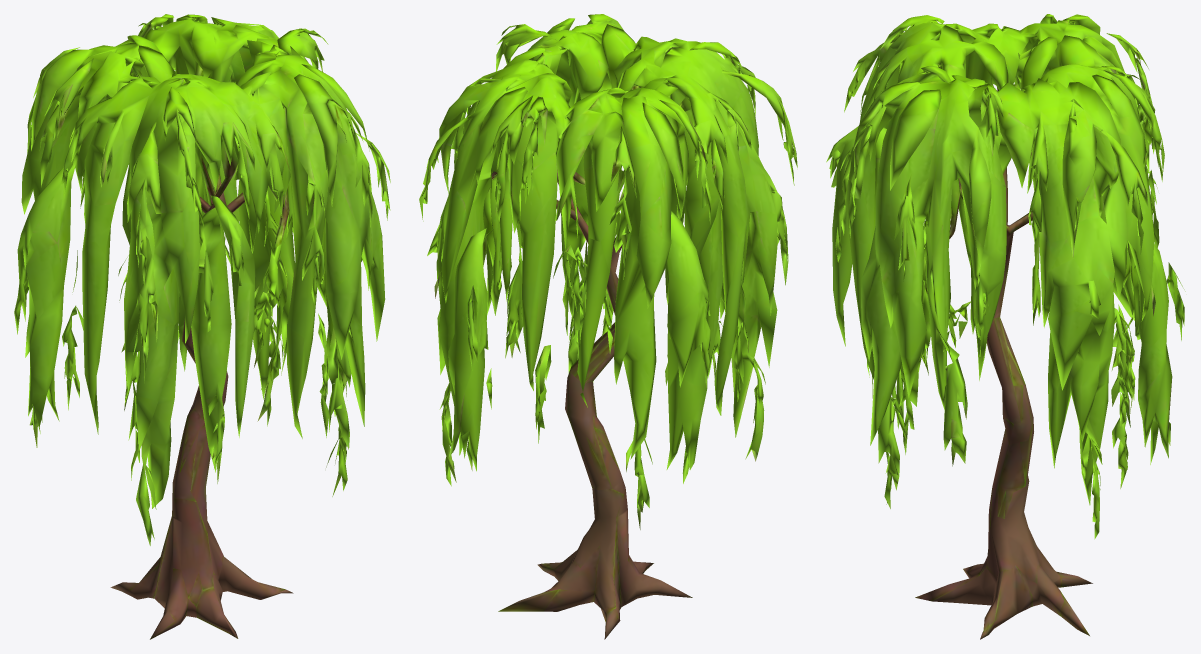
The model's file is willow_tree.glb.
3 renders of one model, left to right at view 1: azimuth 30°, elevation 25°; view 2: azimuth 150°, elevation 25°; view 3: azimuth 270°, elevation 25°, orthographic. The views are drawn at different scales.
Bounding box in the file's own units: 1.02 × 1.91 × 1.11.
Materials: 1 (1 with a texture image).
